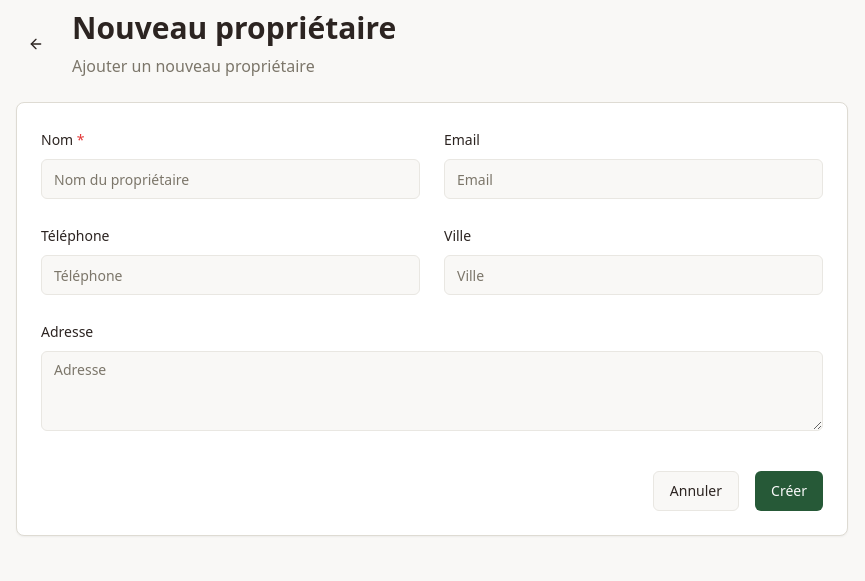
Test: OwnerCreatePage › should show error when required fields are missing
Note: Attempt to submit without filling required fields
Click the button "Créer". click: (789, 491)
box: [755,471,823,511]
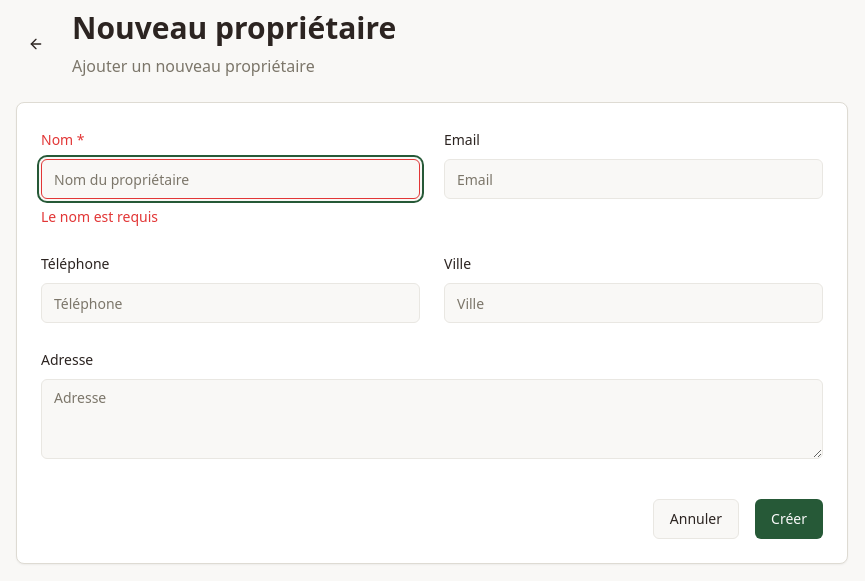
Check: the text "Le nom est requis" is shown, box [41,207,158,226]
